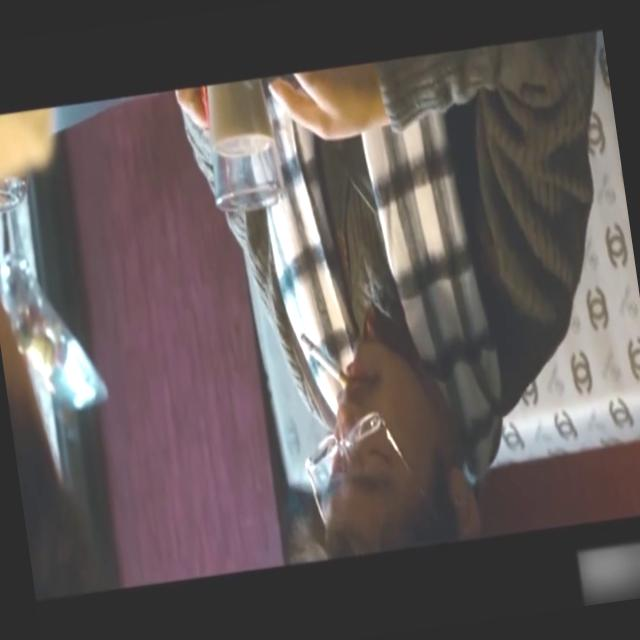cigarette: (294, 319, 356, 399)
